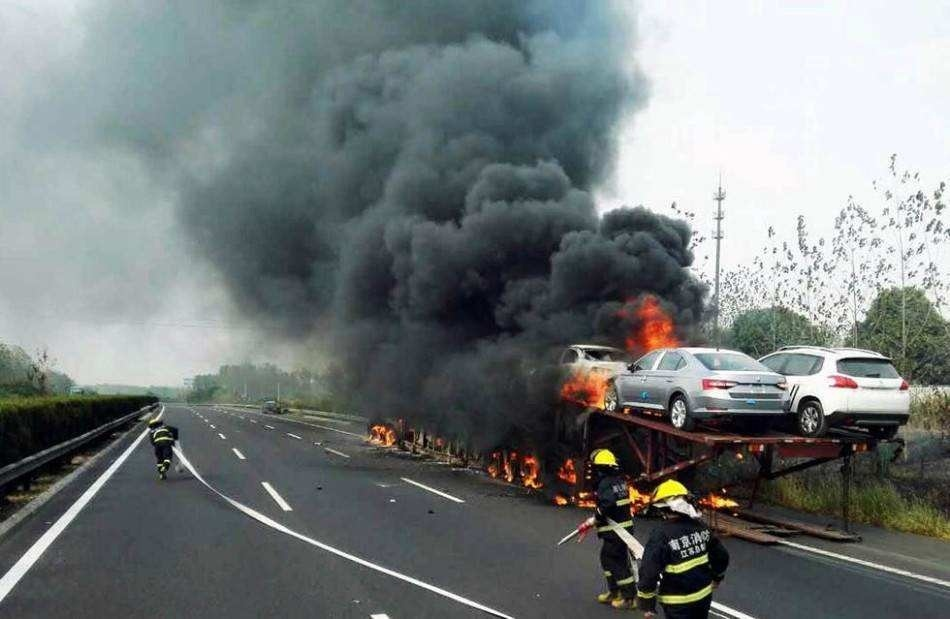fire: (558, 296, 682, 418)
